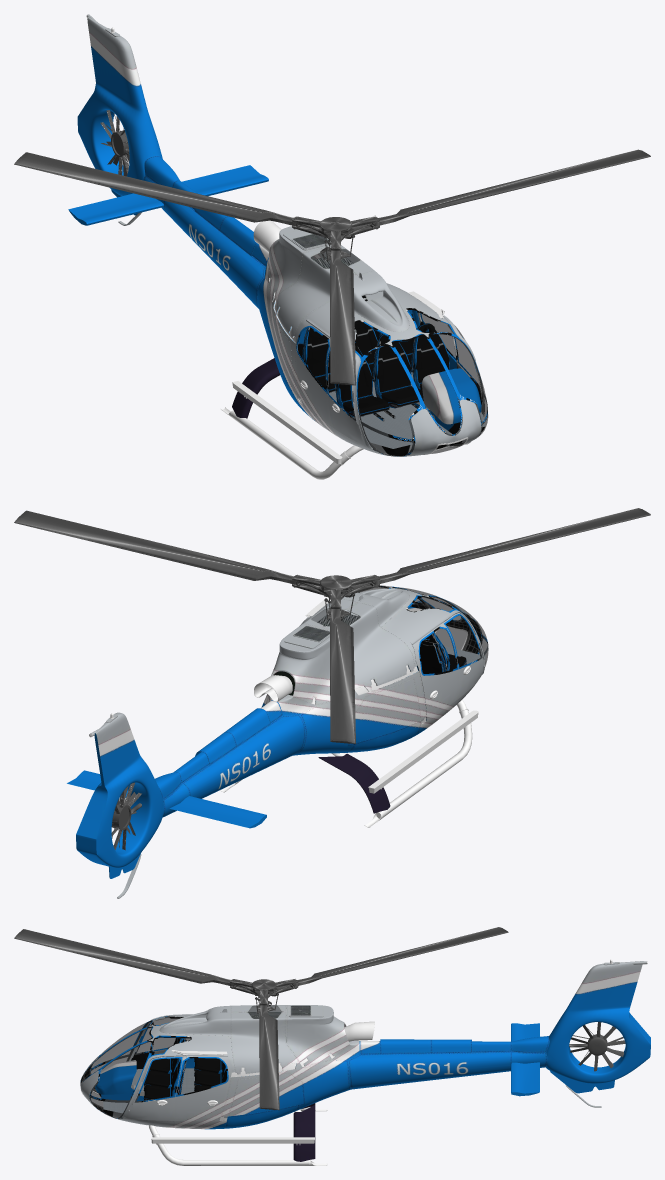
Rendered from helicopter.glb.
3 views of the same model, one above another, from view 1: azimuth 30°, elevation 25°; view 2: azimuth 150°, elevation 25°; view 3: azimuth 270°, elevation 25° (orthographic). The views are drawn at different scales.
Parts seen in each view (by area): view 1: helicopter.Shape_body_0_9, helicopter.Shape_glass_0_10, helicopter.Shape_elise_0_11, helicopter.Shape_interior_0_8, helicopter.Shape_black_0_7, helicopter.Shape_rotor_0_12; view 2: helicopter.Shape_body_0_9, helicopter.Shape_elise_0_11, helicopter.Shape_black_0_7, helicopter.Shape_glass_0_10, helicopter.Shape_interior_0_8, helicopter.Shape_rotor_0_12; view 3: helicopter.Shape_body_0_9, helicopter.Shape_elise_0_11, helicopter.Shape_glass_0_10, helicopter.Shape_black_0_7, helicopter.Shape_interior_0_8, helicopter.Shape_rotor_0_12.
Boxes of the visible parts, x1,y1,x2,y2 form: helicopter.Shape_body_0_9: (68, 14, 487, 456); helicopter.Shape_glass_0_10: (297, 309, 487, 456); helicopter.Shape_elise_0_11: (14, 149, 650, 385); helicopter.Shape_interior_0_8: (302, 321, 449, 421); helicopter.Shape_black_0_7: (110, 27, 470, 479); helicopter.Shape_rotor_0_12: (100, 110, 129, 176); helicopter.Shape_body_0_9: (67, 586, 488, 898); helicopter.Shape_elise_0_11: (14, 508, 650, 743); helicopter.Shape_black_0_7: (89, 594, 478, 827); helicopter.Shape_glass_0_10: (360, 585, 488, 673); helicopter.Shape_interior_0_8: (420, 632, 466, 673); helicopter.Shape_rotor_0_12: (111, 782, 141, 850); helicopter.Shape_body_0_9: (80, 961, 650, 1161); helicopter.Shape_elise_0_11: (14, 927, 508, 1110); helicopter.Shape_glass_0_10: (81, 1017, 226, 1117); helicopter.Shape_black_0_7: (80, 959, 647, 1165); helicopter.Shape_interior_0_8: (143, 1038, 227, 1100); helicopter.Shape_rotor_0_12: (569, 1022, 625, 1071).
Bounding box in the file's own units: 7.28 × 3.31 × 10.7.
6 materials, 4 textured.
